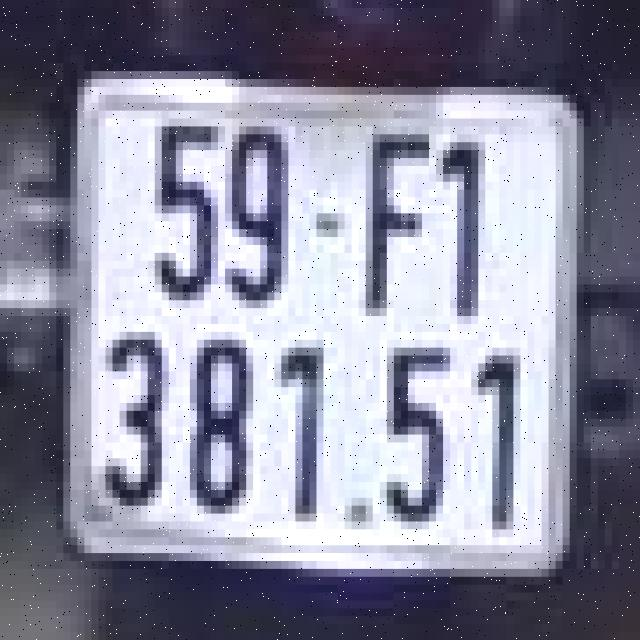1: (461, 340, 538, 529), (274, 328, 338, 533), (439, 126, 503, 324)
3: (91, 320, 176, 510)
5: (141, 107, 225, 320), (369, 332, 454, 537)
8: (179, 324, 264, 529)
9: (214, 119, 306, 316)
F: (341, 118, 433, 324)
